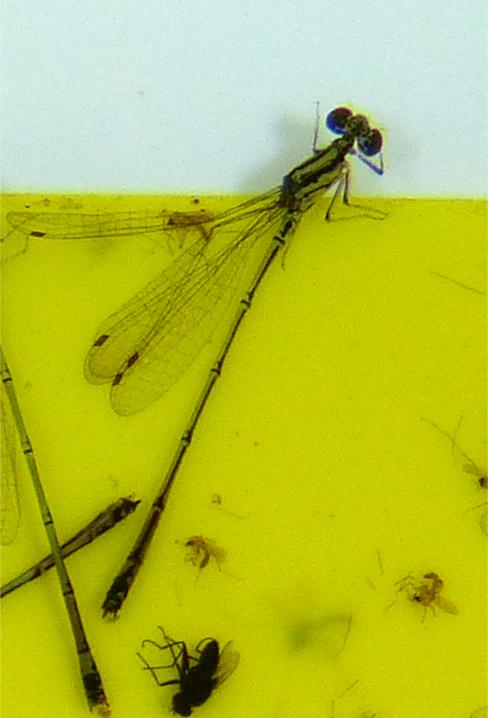Brachycera: (138, 624, 240, 718)
Nematocera: (397, 567, 461, 615), (157, 206, 215, 248), (182, 532, 225, 571)
Odonata: (100, 100, 388, 618)
